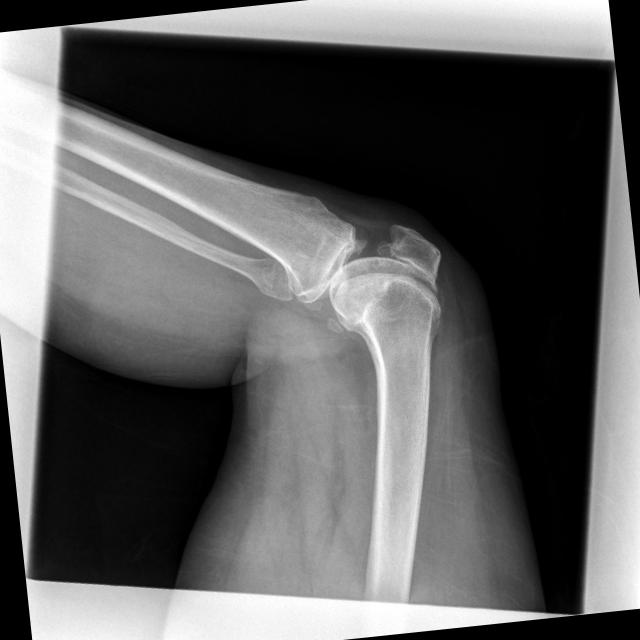Knee: (276, 192, 449, 321)
